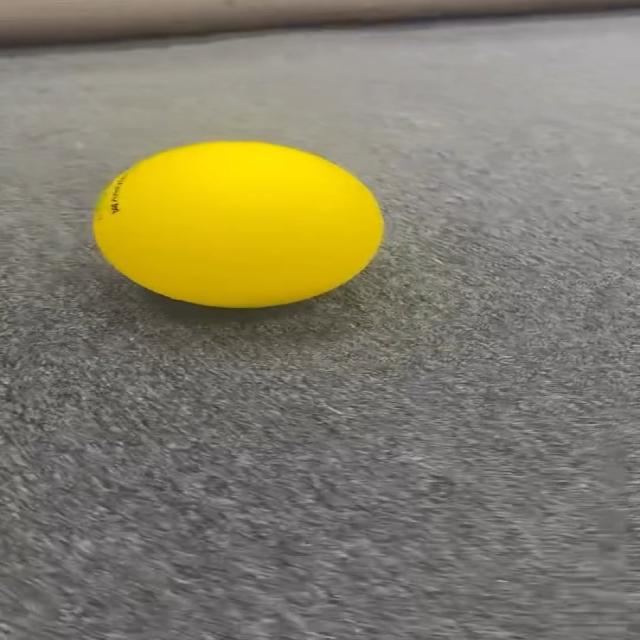Fuels: (94, 142, 379, 305)
